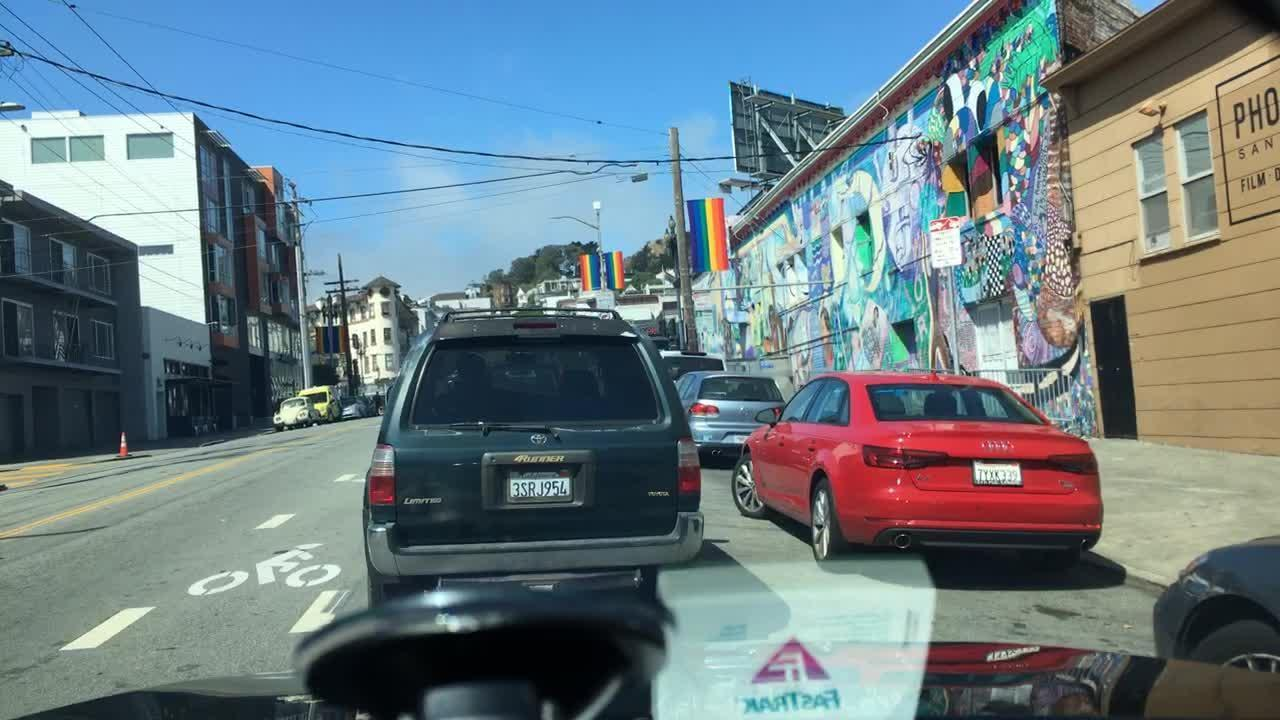Audi: (977, 435, 1017, 456)
Toyota: (528, 429, 550, 450)
